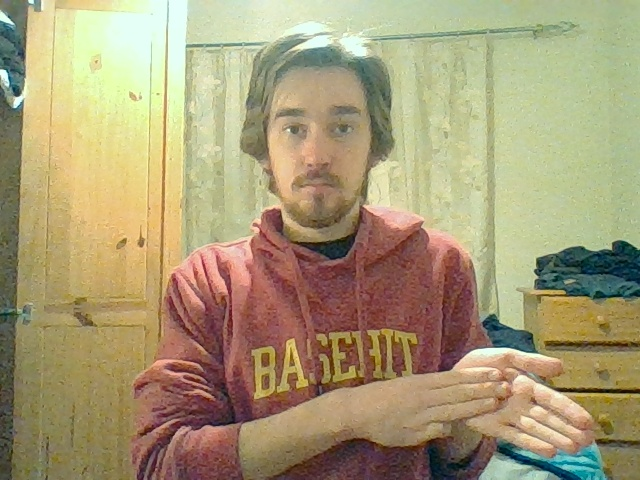mother: (438, 348, 595, 458)
